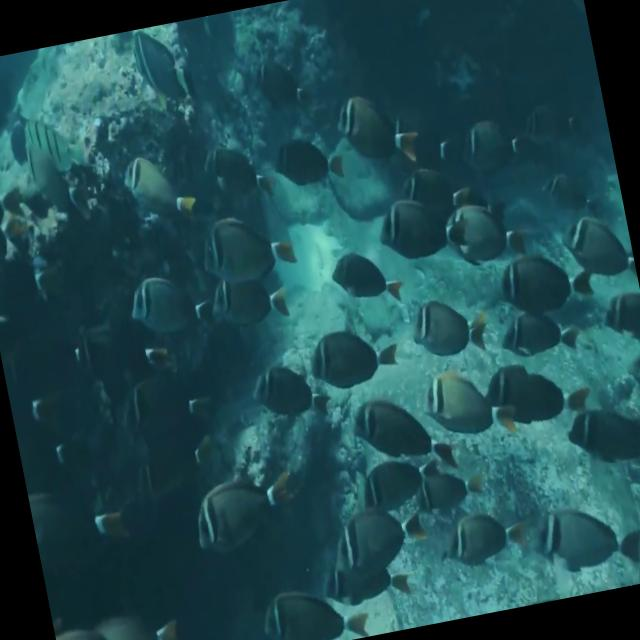fish: (183, 448, 301, 550), (529, 487, 640, 591), (342, 387, 462, 483), (490, 348, 596, 444), (329, 79, 422, 183), (196, 205, 302, 290), (495, 242, 605, 322), (328, 494, 430, 580), (421, 364, 518, 448), (304, 317, 402, 393), (125, 268, 213, 350), (263, 574, 372, 640), (374, 188, 468, 264), (406, 288, 492, 369), (440, 498, 529, 572), (558, 199, 636, 283), (326, 240, 404, 319), (250, 357, 336, 428), (406, 452, 486, 521)
